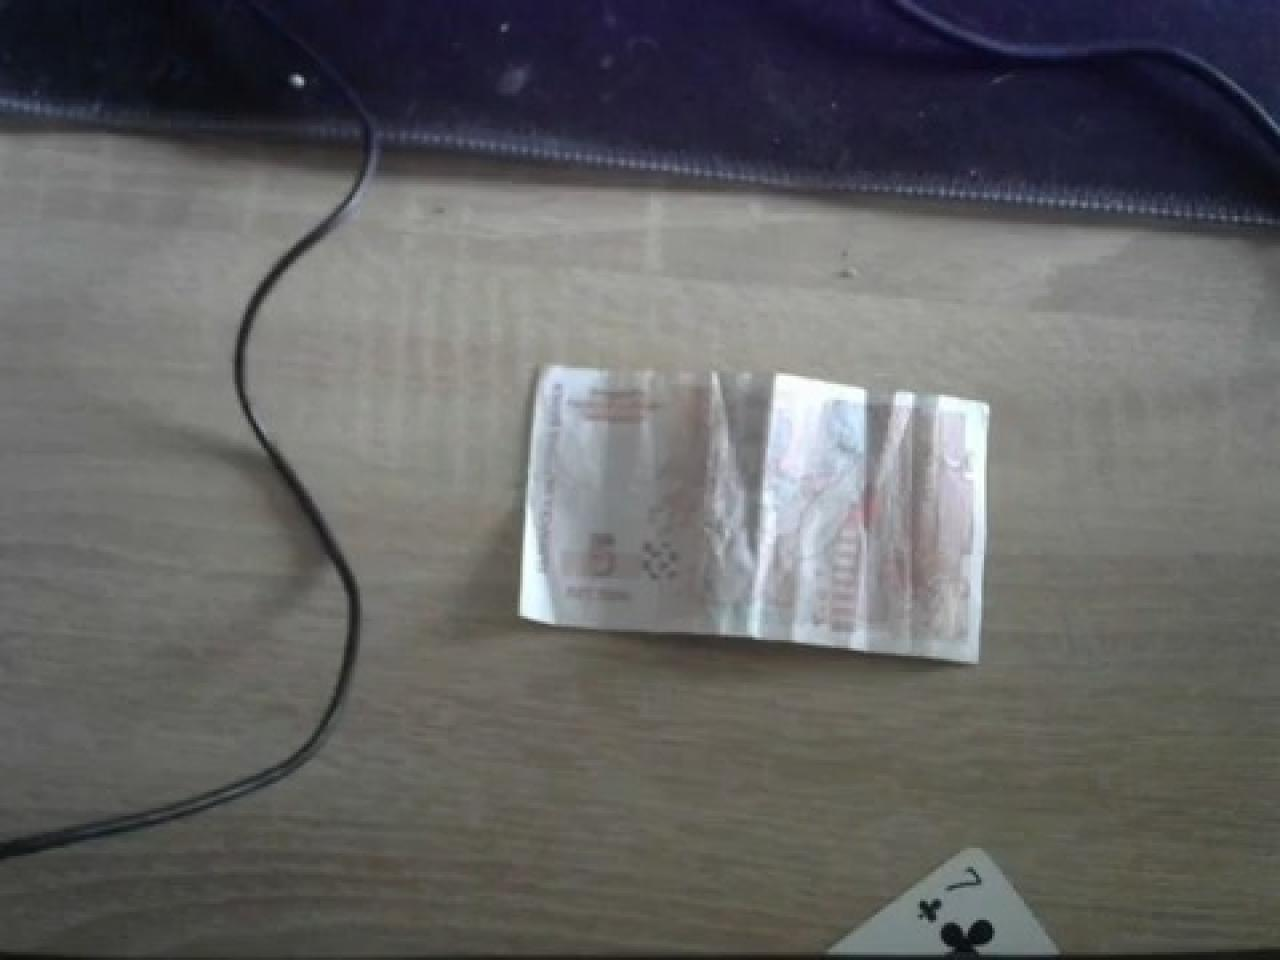5leva: (517, 365, 987, 667)
